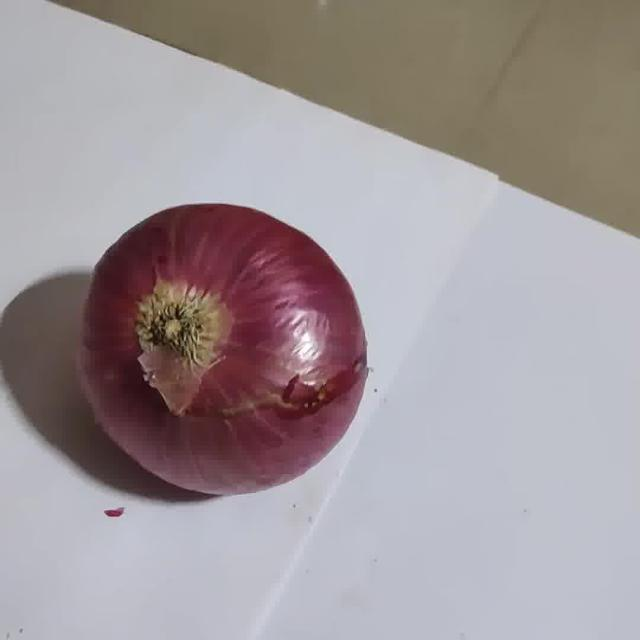Onion: (81, 204, 367, 495)
